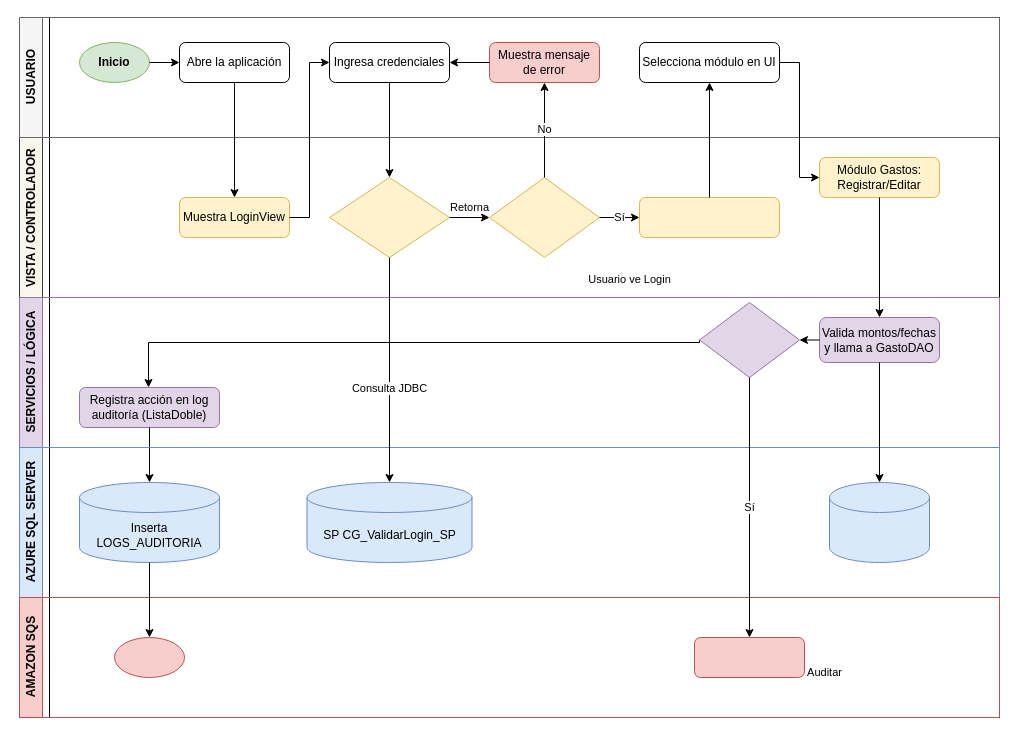
Some shapes in this 1017 by 735 pixel diagram are drawn without their labels. Here are the shapes that lost their labels. From the top down, the centre of each, then its label:
At point 389,217: "Valida credenciales contra BD".
At point 544,217: "¿Credenciales válidas?".
At point 709,217: "Carga sesión y muestra DashboardView".
At point 749,340: "¿Excede presupuesto?".
At point 879,522: "Guarda en SQL Server XML / Gasto".
At point 149,657: "Fin".
At point 749,657: "Notifica Alerta vía SqsService".
